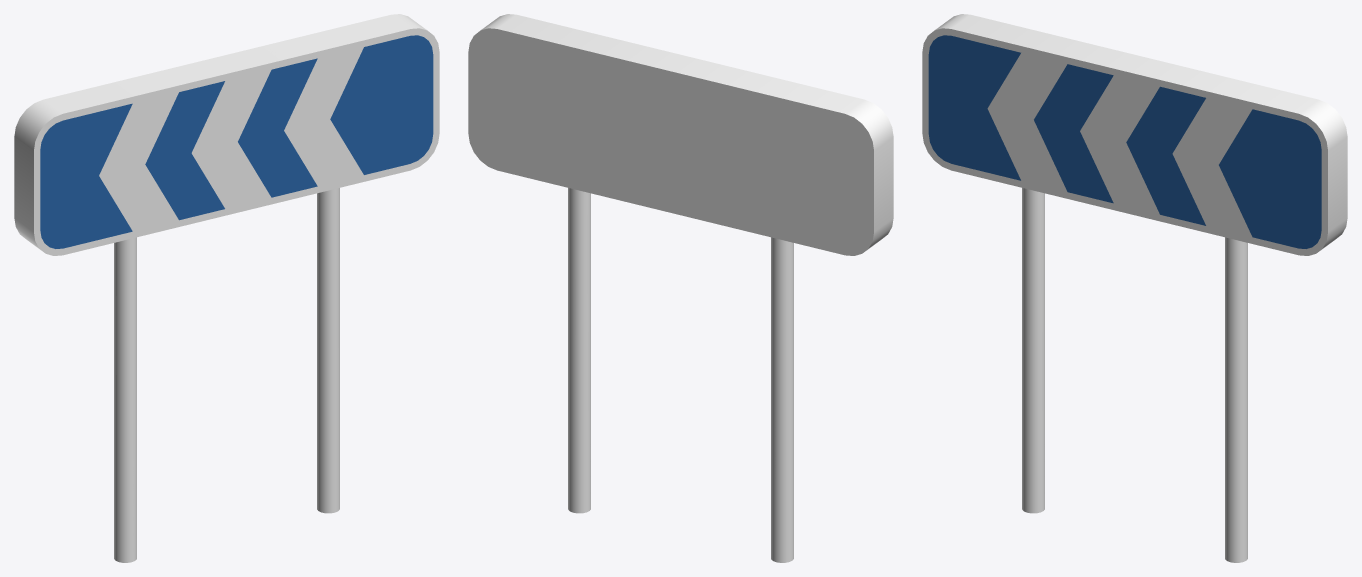
The model's file is panneau.fbx.
The picture shows the model from 3 angles, left to right: view 1: azimuth 30°, elevation 25°; view 2: azimuth 150°, elevation 25°; view 3: azimuth 330°, elevation 25°; orthographic projection.
Visible parts, largest first — view 1: Panneau, PiedPanneau2, PiedPanneau1; view 2: Panneau, PiedPanneau2, PiedPanneau1; view 3: Panneau, PiedPanneau2, PiedPanneau1.
Part boxes in pixels (x1,y1,x2,y2): Panneau: (14,14,439,255); PiedPanneau2: (317,188,339,513); PiedPanneau1: (114,237,136,562); Panneau: (468,14,893,255); PiedPanneau2: (568,188,590,513); PiedPanneau1: (771,237,793,562); Panneau: (922,14,1347,255); PiedPanneau2: (1225,237,1247,562); PiedPanneau1: (1022,188,1044,513).
Bounding box in the file's own units: 600 × 663 × 50.
